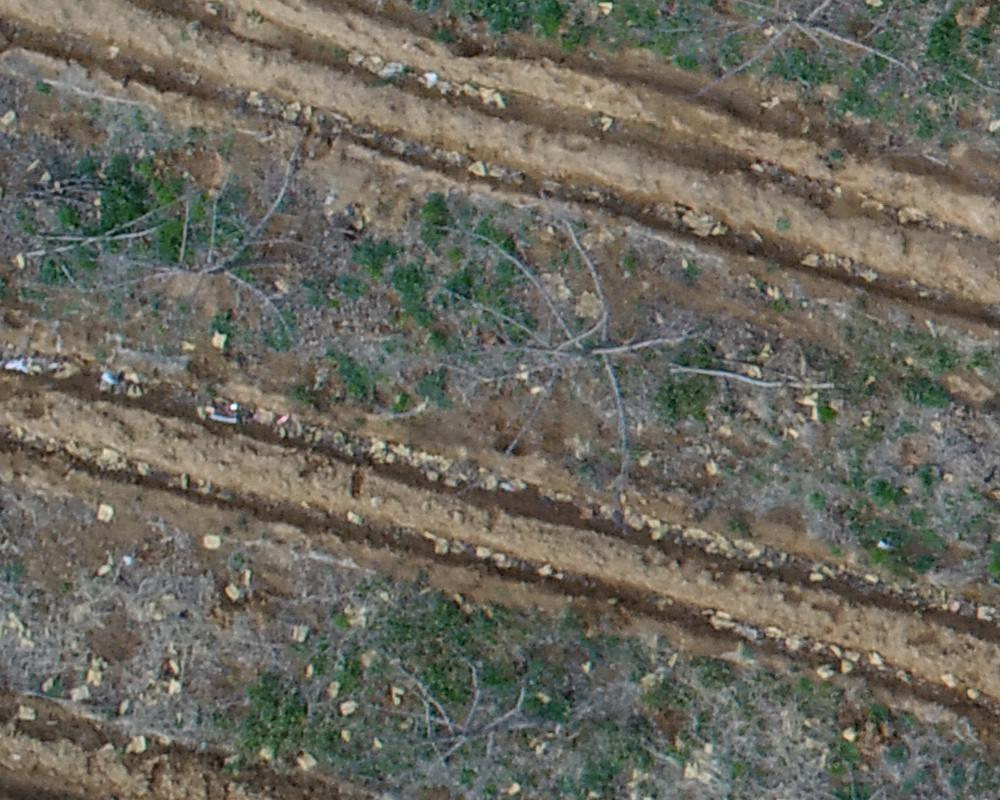apple: (391, 219, 792, 505), (346, 663, 595, 790), (657, 10, 924, 118)
